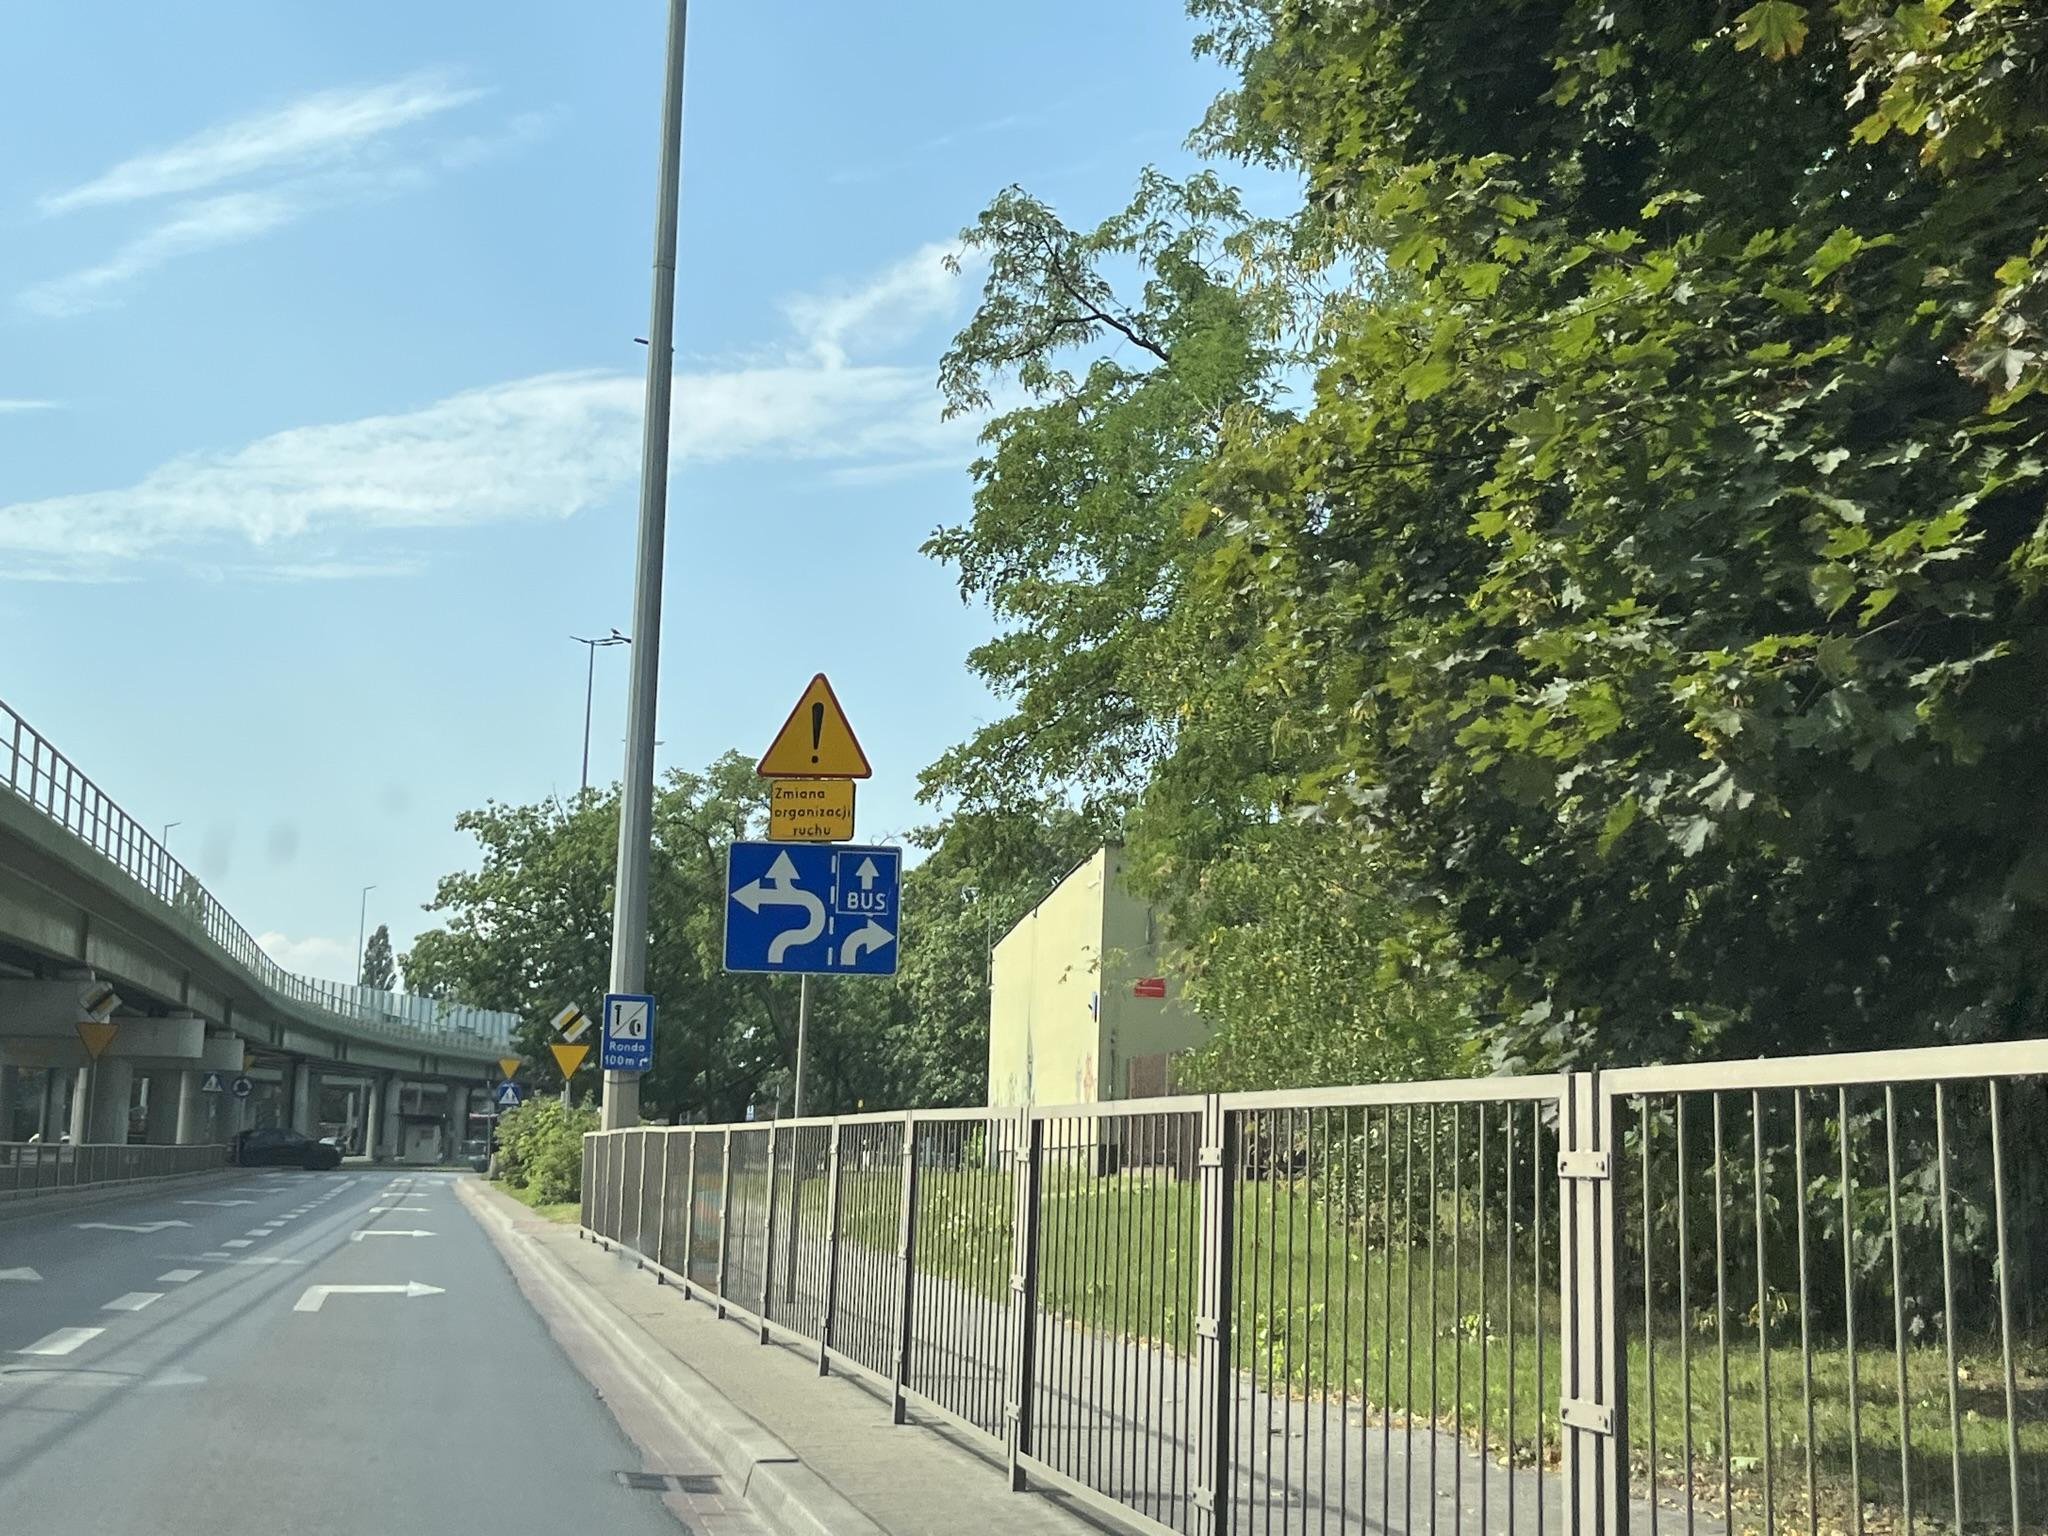information: (603, 994, 651, 1070), (76, 979, 123, 1021), (550, 1002, 593, 1044), (203, 1075, 224, 1094)
mandatory: (231, 1076, 253, 1099)
other: (726, 842, 898, 978), (771, 779, 856, 839)
warning: (755, 671, 872, 779), (74, 1021, 119, 1063), (550, 1044, 592, 1079), (498, 1058, 522, 1081), (498, 1084, 519, 1104)
